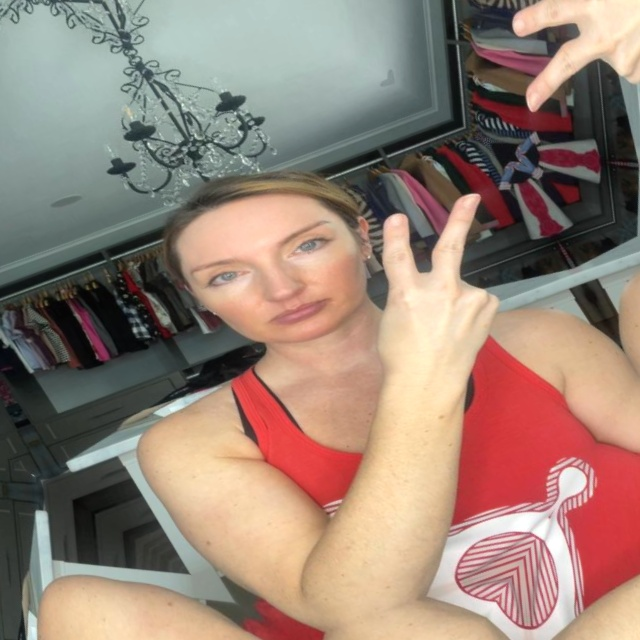Scissors: (434, 0, 640, 180)
